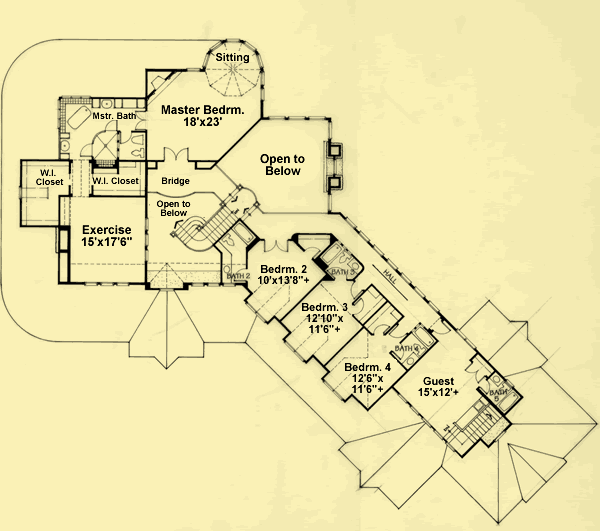door: (461, 359, 487, 386), (161, 146, 193, 164), (263, 235, 290, 255), (78, 141, 94, 160), (350, 297, 366, 315), (133, 110, 148, 129), (302, 244, 321, 259), (374, 323, 390, 338), (105, 118, 118, 132)
large_sink: (127, 147, 148, 160)
stairs: (439, 398, 503, 456), (171, 207, 239, 252)
tub: (67, 104, 92, 132), (411, 323, 435, 348), (322, 241, 341, 269)
window: (265, 114, 328, 123), (83, 278, 129, 290), (141, 215, 151, 265), (188, 282, 237, 288)
